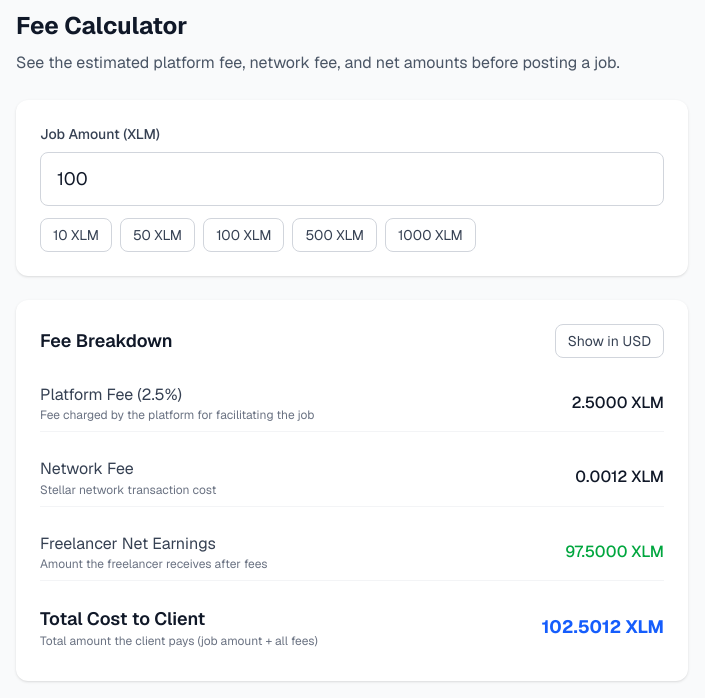
Scenario: FeeCalculatorPage › toggles fiat display
Click the button "Show in USD". click: coordinates (609, 341)
box: [555, 324, 664, 358]
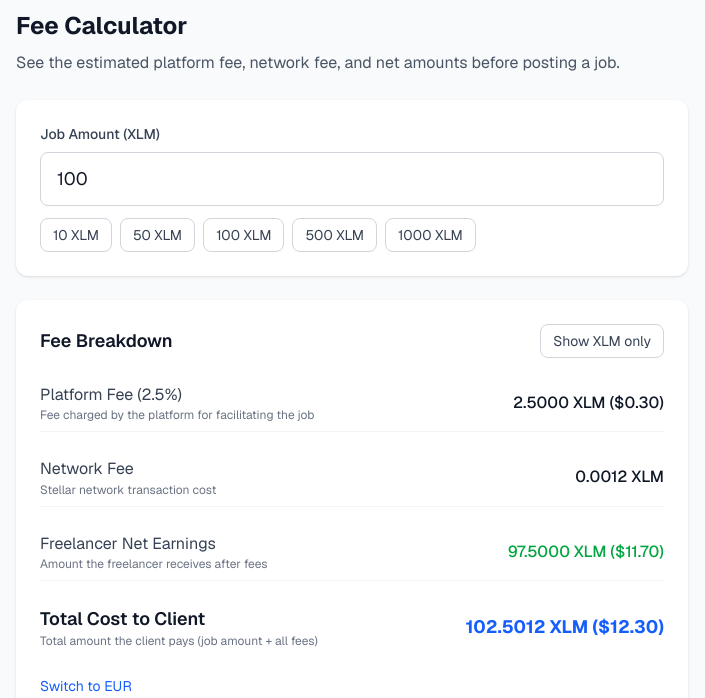
Now the button "Switch to EUR" is shown, box [40, 676, 132, 696]
